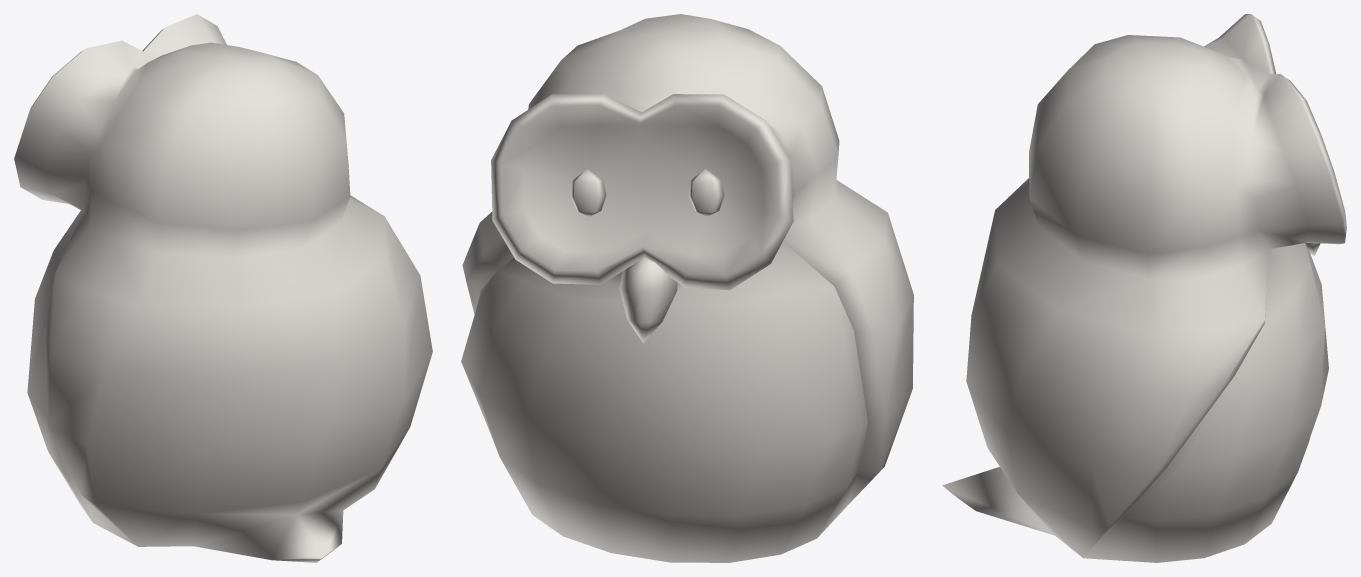
The model's file is Owl2.glb.
The picture shows the model from 3 angles, left to right: view 1: azimuth 30°, elevation 25°; view 2: azimuth 150°, elevation 25°; view 3: azimuth 270°, elevation 25°; orthographic projection. The views are drawn at different scales.
Visible parts, largest first — view 1: Standard.13; view 2: Standard.13, Standard.12; view 3: Standard.13.
Part boxes in pixels (x1,y1,x2,y2): Standard.13: (14,14,432,562); Standard.13: (461,14,913,562); Standard.12: (570,169,724,343); Standard.13: (942,14,1346,562).
Size of the model in its own units: 0.0173 by 0.0194 by 0.0161.
2 materials, 2 textured.
